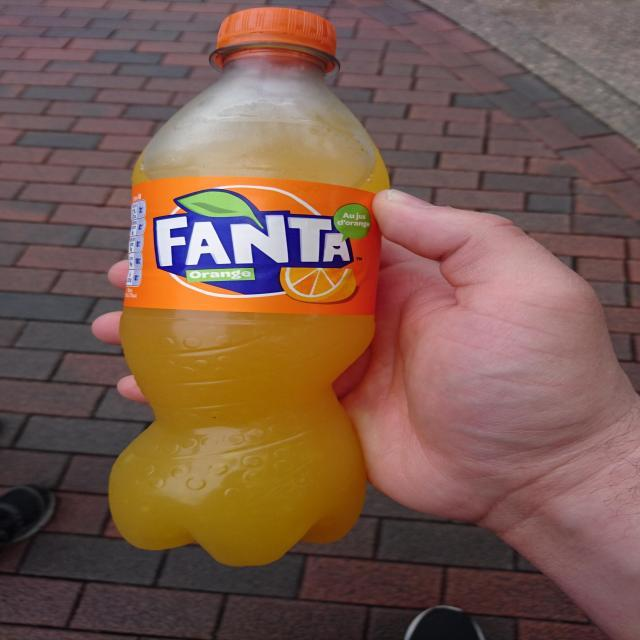Fanta: (105, 8, 399, 564)
